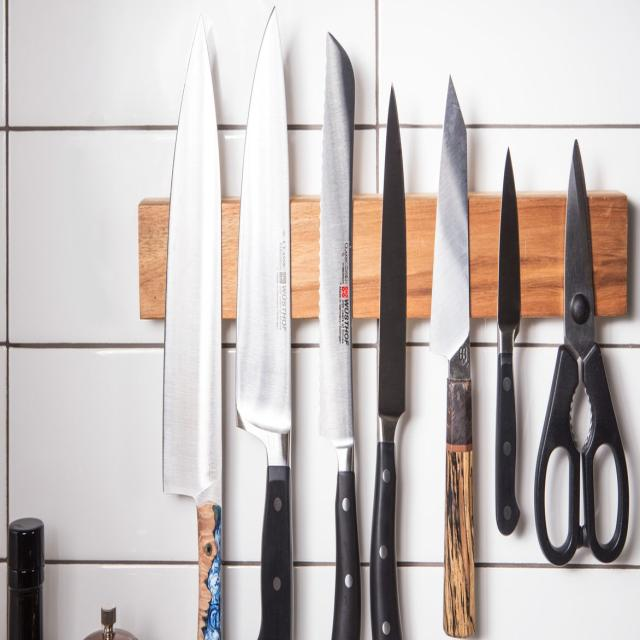Weapon: (534, 140, 629, 564), (163, 17, 222, 640), (236, 8, 292, 640), (430, 78, 475, 636), (319, 33, 360, 640), (370, 89, 406, 640), (495, 149, 520, 534)
